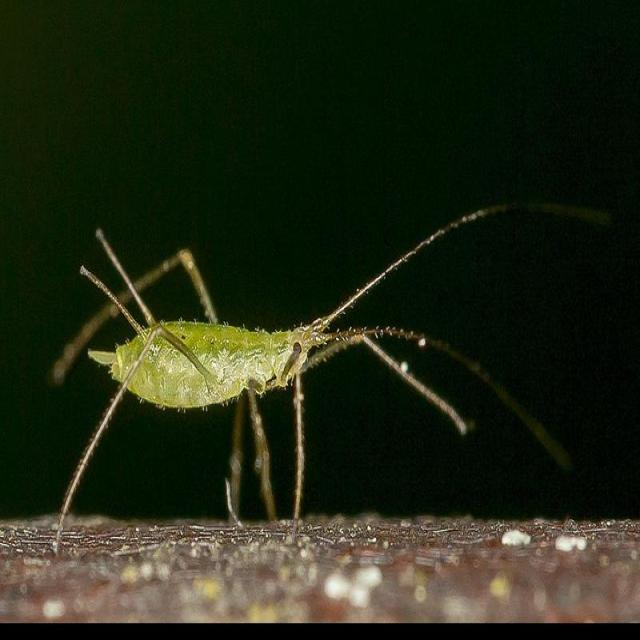Aphids: (42, 183, 555, 531)
